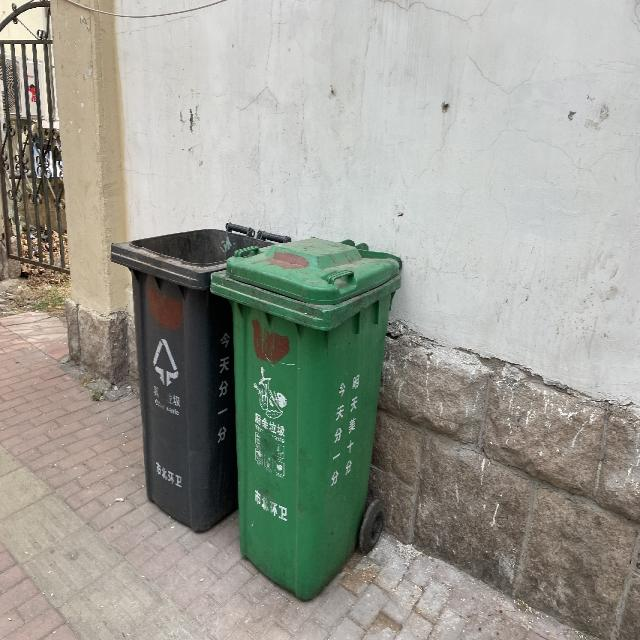garbage_bin: (208, 236, 400, 602), (108, 221, 290, 534)
